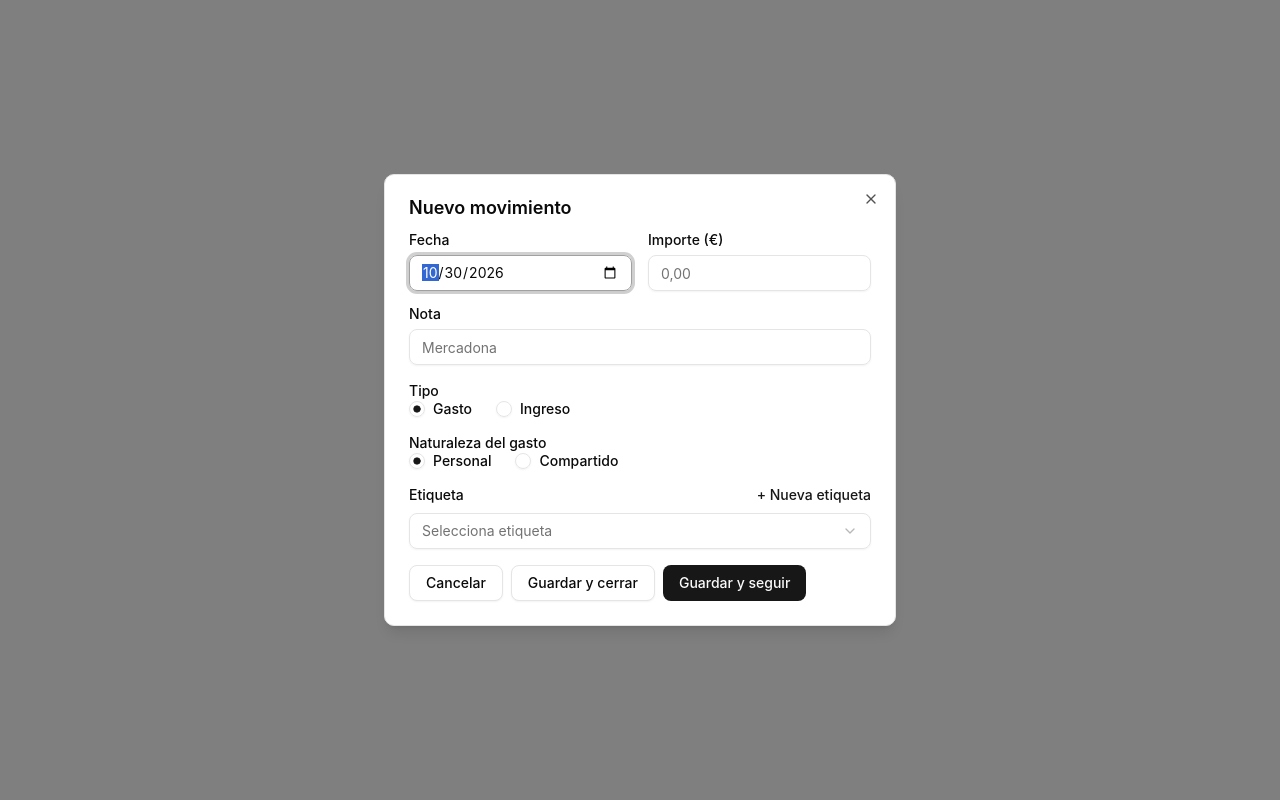
CreateMovementDialog (flujo de alta) › oculta la naturaleza al seleccionar ingreso
The width and height of the screenshot is (1280, 800).
Click the radio button named "Ingreso" next to "Ingreso".
click(504, 409)  # box [496, 401, 512, 417]
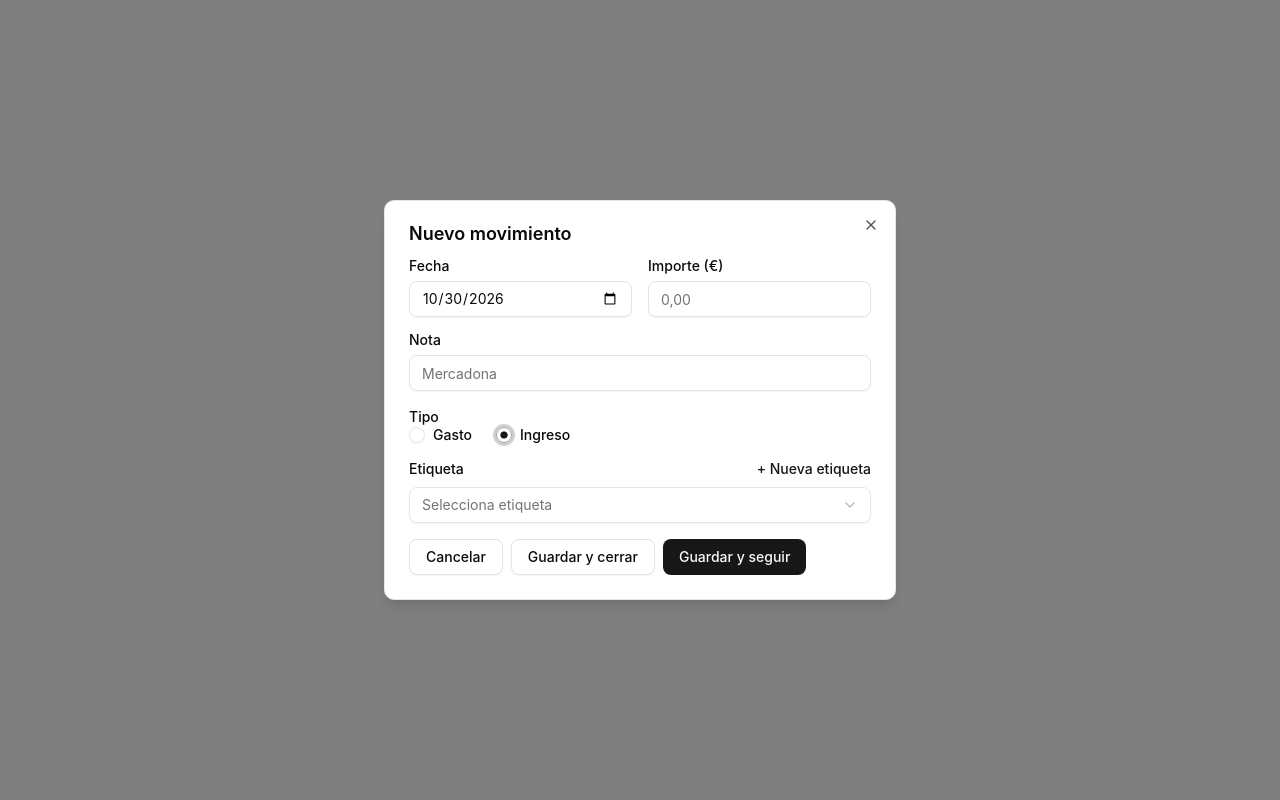
Now the label "Personal" is gone
Now the label "Compartido" is gone
